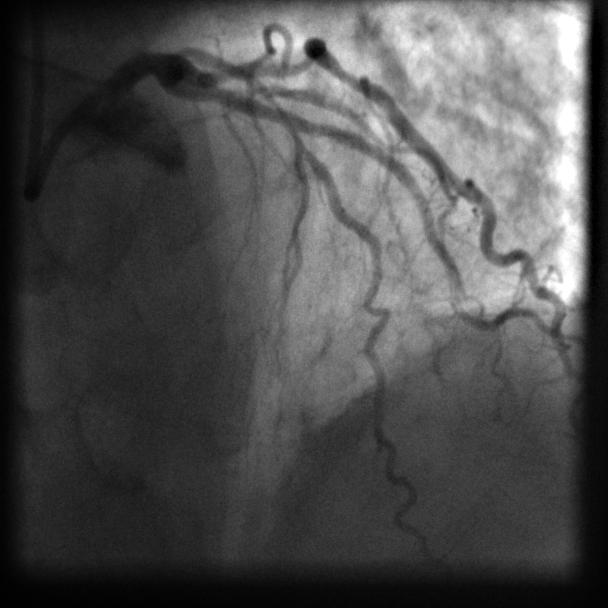Stenosis: (261, 80, 295, 138)
